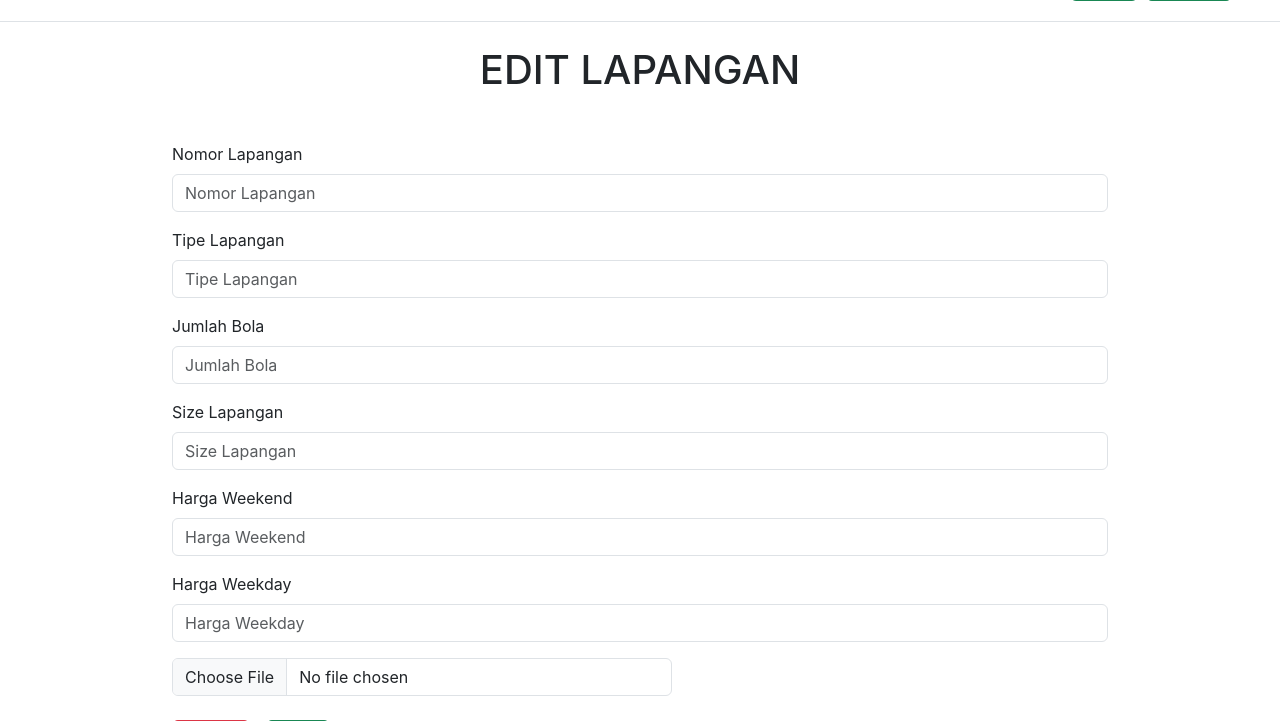
Test: AddLapangan Component Tests › Form submission works correctly with valid input
// Isi formulir dengan data yang valid
Step 1. Type "1" into the field with placeholder "Nomor Lapangan" → (640,193), box [172,174,1108,212]
Step 2. Type "Futsal" into the field with placeholder "Tipe Lapangan" → (640,279), box [172,260,1108,298]
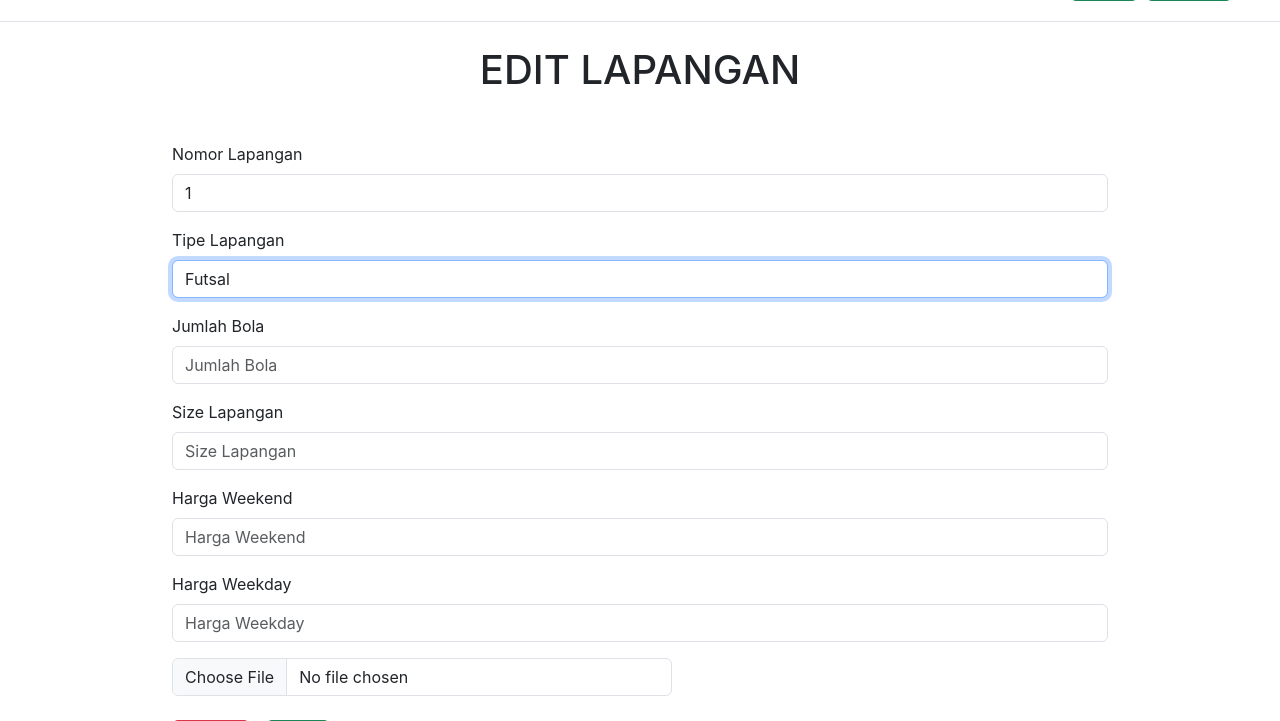
Step 3. Type "5" into the field with placeholder "Jumlah Bola" → (640,365), box [172,346,1108,384]
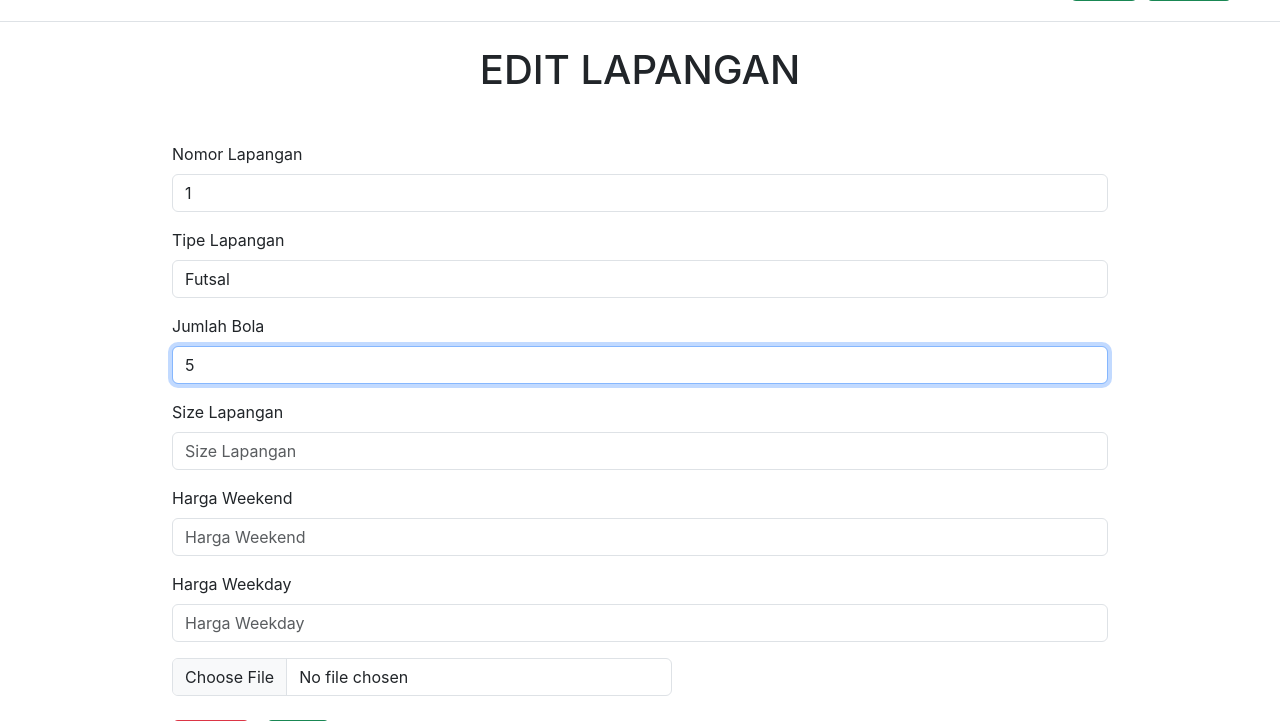
Step 4. Type "40x20" into the field with placeholder "Size Lapangan" → (640,451), box [172,432,1108,470]
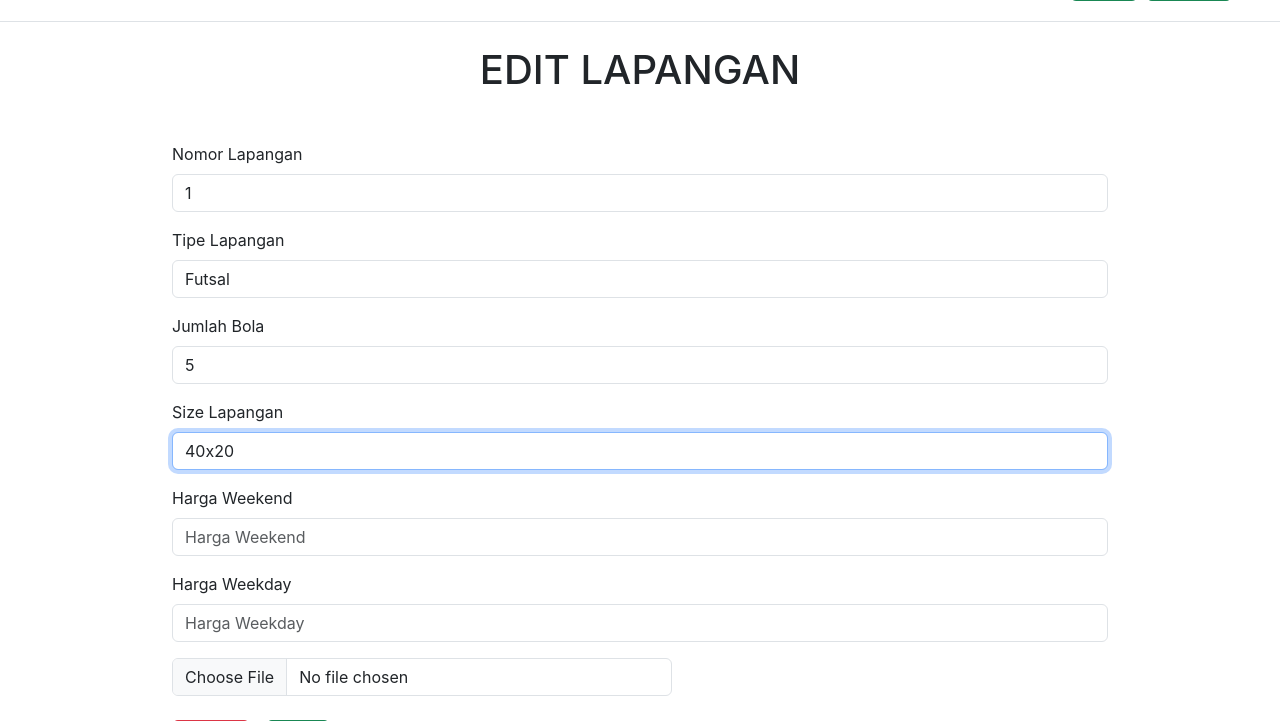
Step 5. Type "150000" into the field with placeholder "Harga Weekend" → (640,537), box [172,518,1108,556]
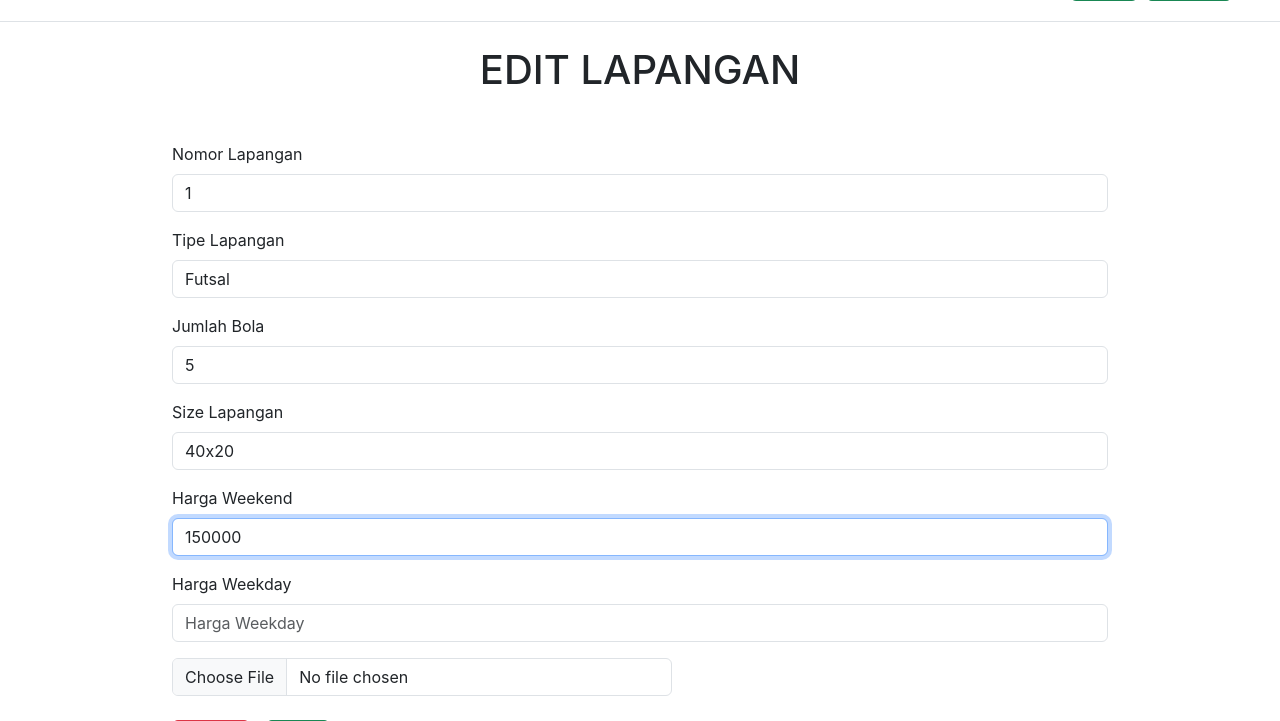
Step 6. Type "100000" into the field with placeholder "Harga Weekday" → (640,623), box [172,604,1108,642]
(page scrolled)
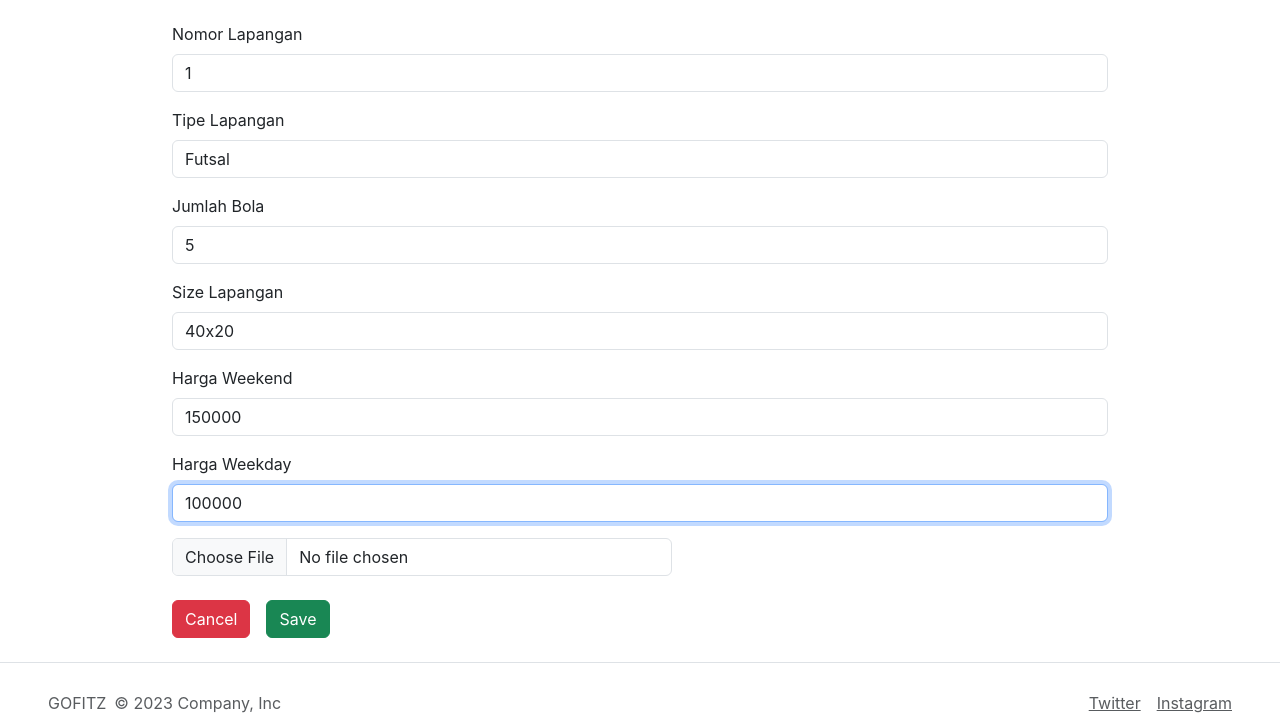
// Klik tombol "Save"
Step 7. Click the button "Save" → (298,619), box [266,600,330,638]
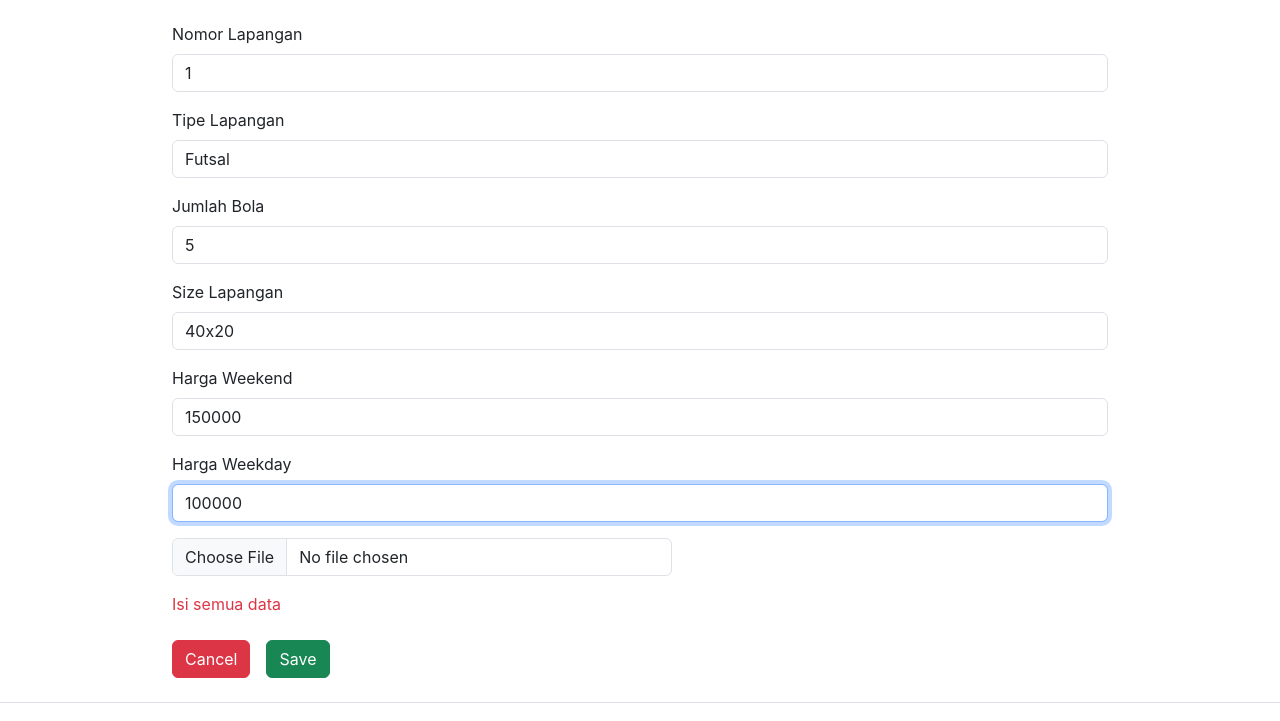
Expected: the text "Isi semua data" is shown, [172,592,281,616]
